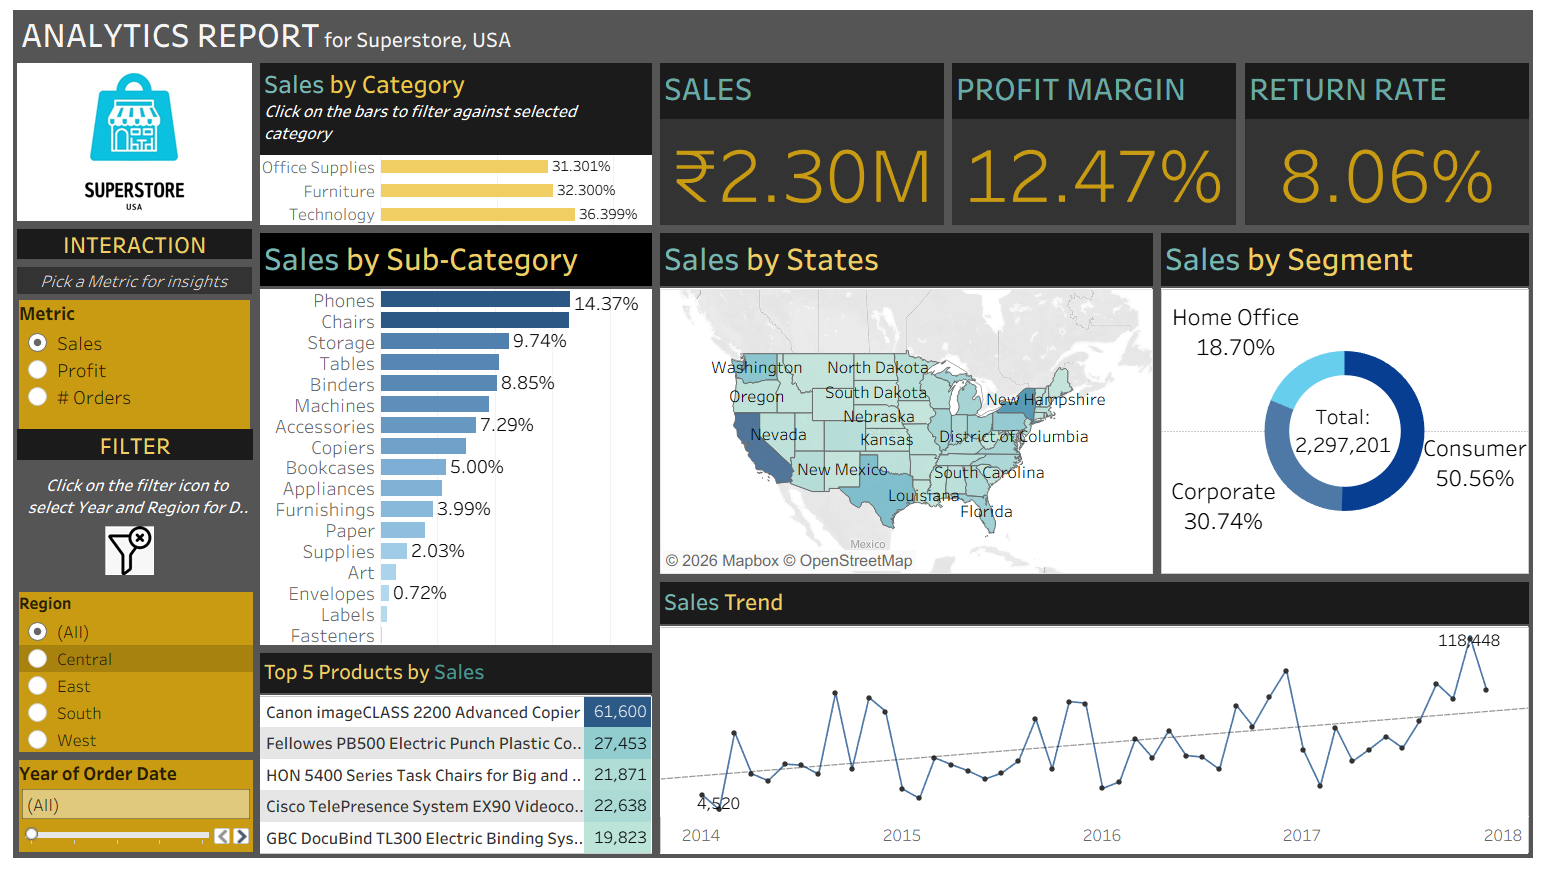

What the dashboard file says about the page in this screenshot:
{"tool":"tableau","page":{"name":"Dashboard 7","canvas":[1536,864],"ordinal":0},"visuals":[{"type":"text","box":[8,8,1520,48.6]},{"type":"image","param":"Image/WhatsApp Image 2025-02-19 at 5.41.56 PM.jpeg","box":[8,56.6,243.2,166.4]},{"type":"worksheet","title":"Sheet 14","mark":"Automatic","rows":["Category"],"cols":["Calculation_647955445068832770"],"box":[251.2,56.6,400.1,170.6]},{"type":"worksheet","title":"Sheet 10","mark":"Automatic","box":[651.3,56.6,292.2,170.6]},{"type":"worksheet","title":"Sheet 11","mark":"Automatic","box":[943.5,56.6,292.2,170.6]},{"type":"worksheet","title":"Sheet 12","mark":"Automatic","box":[1235.7,56.6,292.3,170.6]},{"type":"text","box":[8,223,243.2,37.6]},{"type":"worksheet","title":"Sheet 13","mark":"Automatic","rows":["Sub-Category"],"cols":["Calculation_647955445068832770"],"box":[251.2,227.2,400.2,420]},{"type":"worksheet","title":"Sheet 15","mark":"Automatic","box":[651.4,227.2,500.9,349]},{"type":"worksheet","title":"Sheet 16","mark":"Automatic","rows":["Calculation_764767560529162241","Calculation_764767560529203203"],"box":[1152.4,227.2,375.6,349]},{"type":"text","box":[10,262.6,239.2,31]},{"type":"parameter","param":"[Parameters].[Parameter 2]","box":[10,293.6,239.2,140]},{"type":"text","box":[8.3,422.8,243.8,38.8]},{"type":"blank","box":[10,433.6,239.2,199]},{"type":"text","box":[15.8,468.1,233.6,50.7]},{"type":"dashboard-object","box":[100.1,522.1,49.1,52.9]},{"type":"worksheet","title":"Sheet 17","mark":"Line","rows":["Calculation_647955445068832770","Calculation_647955445068832770"],"cols":["Order Date"],"box":[651.4,576.2,876.6,279.8]},{"type":"filter","title":"Sheet 11","param":"[federated.1tyl12d0la3kov1fkro940s3gaw7].[none:Region:nk]","box":[10.2,585.7,241.9,168.6]},{"type":"worksheet","title":"Sheet 18","mark":"Square","rows":["Product Name"],"box":[251.2,647.2,400.2,208.8]},{"type":"filter","title":"Sheet 17","param":"[federated.1tyl12d0la3kov1fkro940s3gaw7].[yr:Order Date:ok]","box":[10.2,754.3,241.9,100]}]}

Visuals, with their boxes in screenshot pixels (x1, y1, x2, y2), scaled from the page's 1536x864 canvas onto the 1549x872 screenshot:
text: box=[8, 8, 1541, 57]
image: box=[8, 57, 253, 225]
"Sheet 14" worksheet: box=[253, 57, 657, 229]
"Sheet 10" worksheet: box=[657, 57, 951, 229]
"Sheet 11" worksheet: box=[951, 57, 1246, 229]
"Sheet 12" worksheet: box=[1246, 57, 1541, 229]
text: box=[8, 225, 253, 263]
"Sheet 13" worksheet: box=[253, 229, 657, 653]
"Sheet 15" worksheet: box=[657, 229, 1162, 582]
"Sheet 16" worksheet: box=[1162, 229, 1541, 582]
text: box=[10, 265, 251, 296]
parameter: box=[10, 296, 251, 438]
text: box=[8, 427, 254, 466]
blank: box=[10, 438, 251, 638]
text: box=[16, 472, 252, 524]
dashboard-object: box=[101, 527, 150, 580]
"Sheet 17" worksheet (Line marks): box=[657, 582, 1541, 864]
"Sheet 11" filter: box=[10, 591, 254, 761]
"Sheet 18" worksheet (Square marks): box=[253, 653, 657, 864]
"Sheet 17" filter: box=[10, 761, 254, 862]
